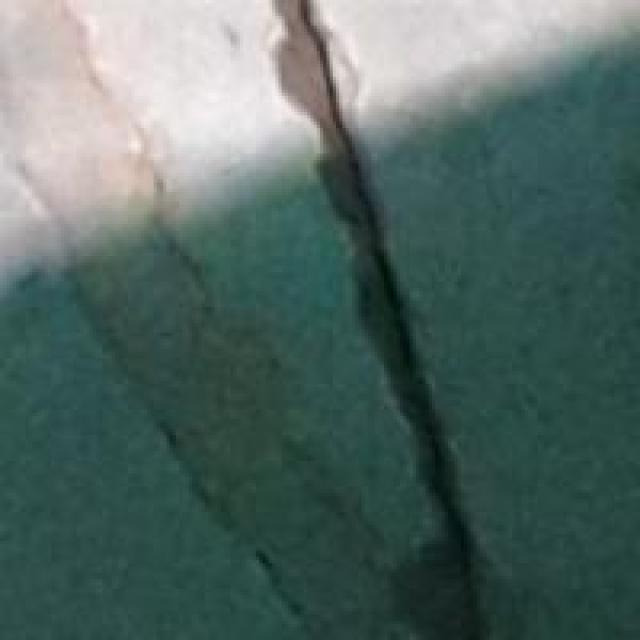Crack: (250, 0, 548, 637)
